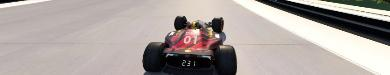Car: (141, 15, 237, 74)
curve: (0, 0, 389, 74)
